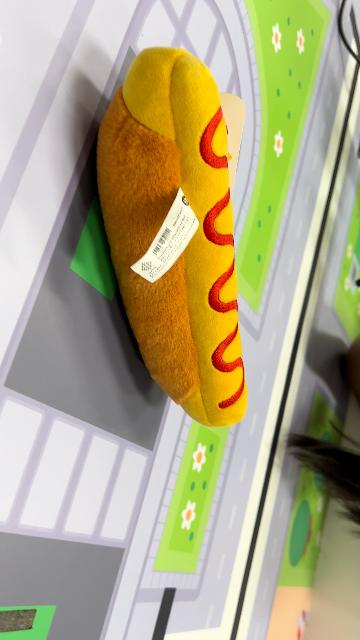hotdog: (96, 45, 250, 429)
